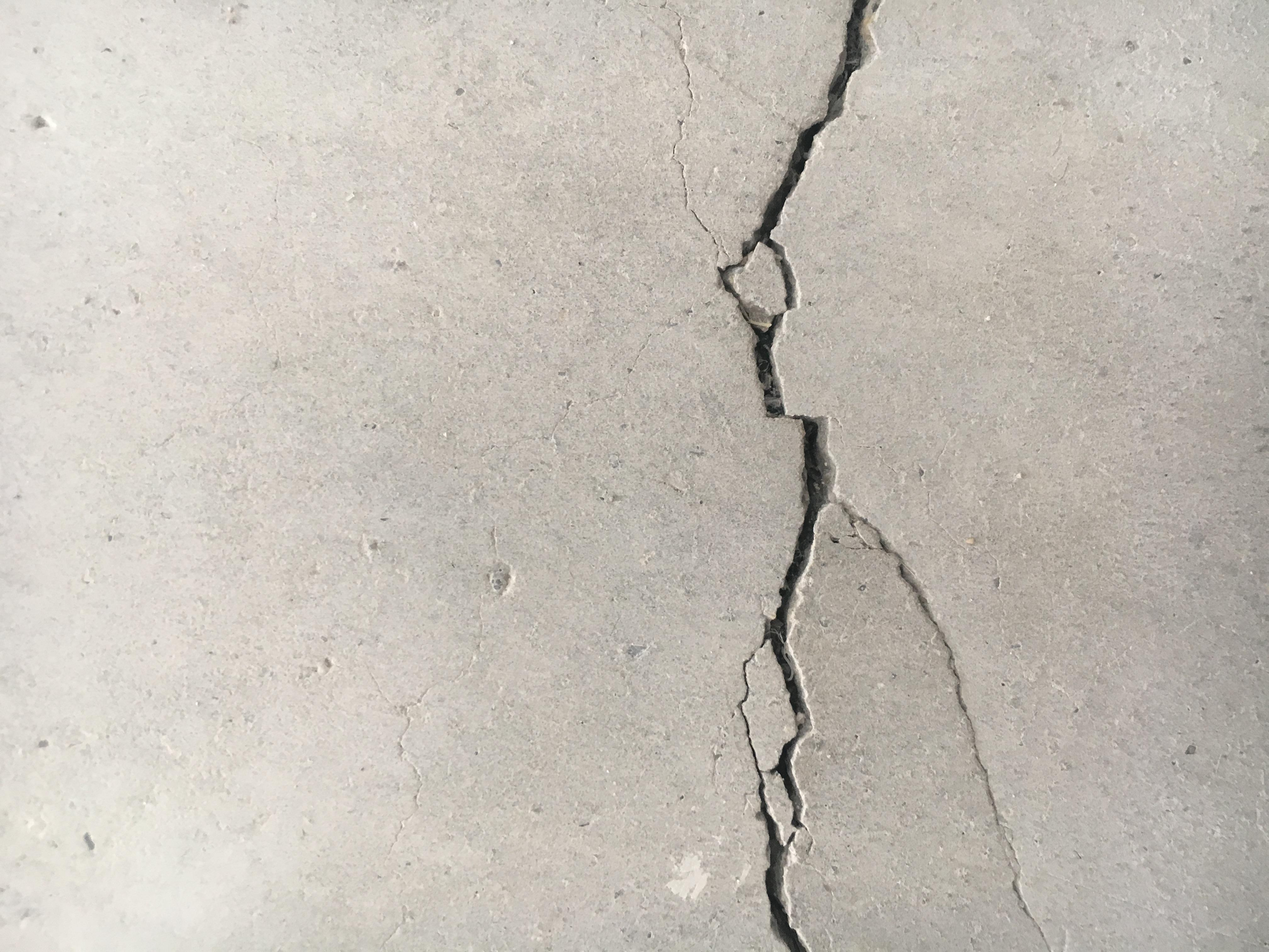Structural-Crack: (663, 2, 1057, 949)
